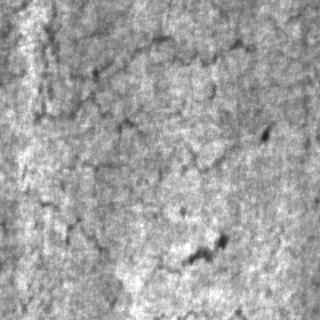crazing: (8, 114, 266, 250), (14, 5, 258, 120)
